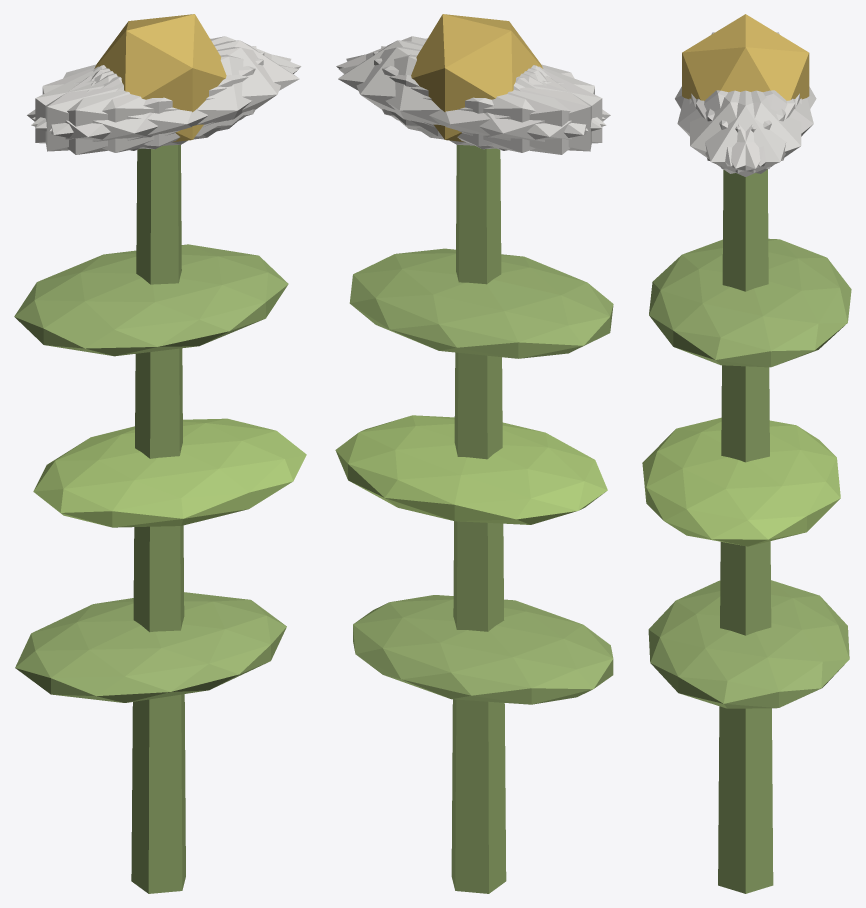
File: bischofia-javanica.glb
3 renders of one model, left to right at view 1: azimuth 30°, elevation 25°; view 2: azimuth 150°, elevation 25°; view 3: azimuth 270°, elevation 25°, orthographic.
Parts seen in each view (by area): view 1: stem, leaf2, leaf1, leaf0, center, petal1, petal6, petal2, petal5, petal7, petal0, petal4 (+2 smaller); view 2: stem, leaf2, leaf0, leaf1, center, petal8, petal3, petal7, petal4, petal2, petal0, petal5 (+2 smaller); view 3: stem, leaf2, leaf1, leaf0, center, petal0, petal5, petal4, petal8, petal1.
Part boxes in pixels (x1=…): stem: x1=131, y1=145, x2=185, y2=893; leaf2: x1=14, y1=244, x2=288, y2=356; leaf1: x1=33, y1=418, x2=306, y2=527; leaf0: x1=15, y1=592, x2=286, y2=702; center: x1=94, y1=14, x2=226, y2=142; petal1: x1=31, y1=54, x2=298, y2=152; petal6: x1=27, y1=66, x2=220, y2=154; petal2: x1=45, y1=46, x2=256, y2=151; petal5: x1=49, y1=47, x2=291, y2=146; petal7: x1=35, y1=51, x2=264, y2=149; petal0: x1=94, y1=40, x2=299, y2=136; petal4: x1=32, y1=36, x2=301, y2=128; stem: x1=451, y1=145, x2=506, y2=893; leaf2: x1=349, y1=248, x2=613, y2=358; leaf0: x1=353, y1=595, x2=613, y2=704; leaf1: x1=335, y1=415, x2=607, y2=524; center: x1=411, y1=14, x2=543, y2=142; petal8: x1=338, y1=54, x2=606, y2=152; petal3: x1=417, y1=66, x2=610, y2=154; petal7: x1=381, y1=46, x2=591, y2=151; petal4: x1=346, y1=47, x2=588, y2=146; petal2: x1=373, y1=51, x2=602, y2=149; petal0: x1=338, y1=40, x2=543, y2=136; petal5: x1=336, y1=36, x2=605, y2=128; stem: x1=718, y1=169, x2=773, y2=893; leaf2: x1=649, y1=238, x2=851, y2=367; leaf1: x1=642, y1=417, x2=840, y2=546; leaf0: x1=648, y1=580, x2=849, y2=708; center: x1=682, y1=14, x2=809, y2=100; petal0: x1=691, y1=90, x2=799, y2=176; petal5: x1=689, y1=90, x2=795, y2=173; petal4: x1=696, y1=90, x2=801, y2=173; petal8: x1=705, y1=90, x2=813, y2=166; petal1: x1=677, y1=90, x2=785, y2=166.
Bounding box in the file's own units: 0.1471 × 0.4528 × 0.1009.
